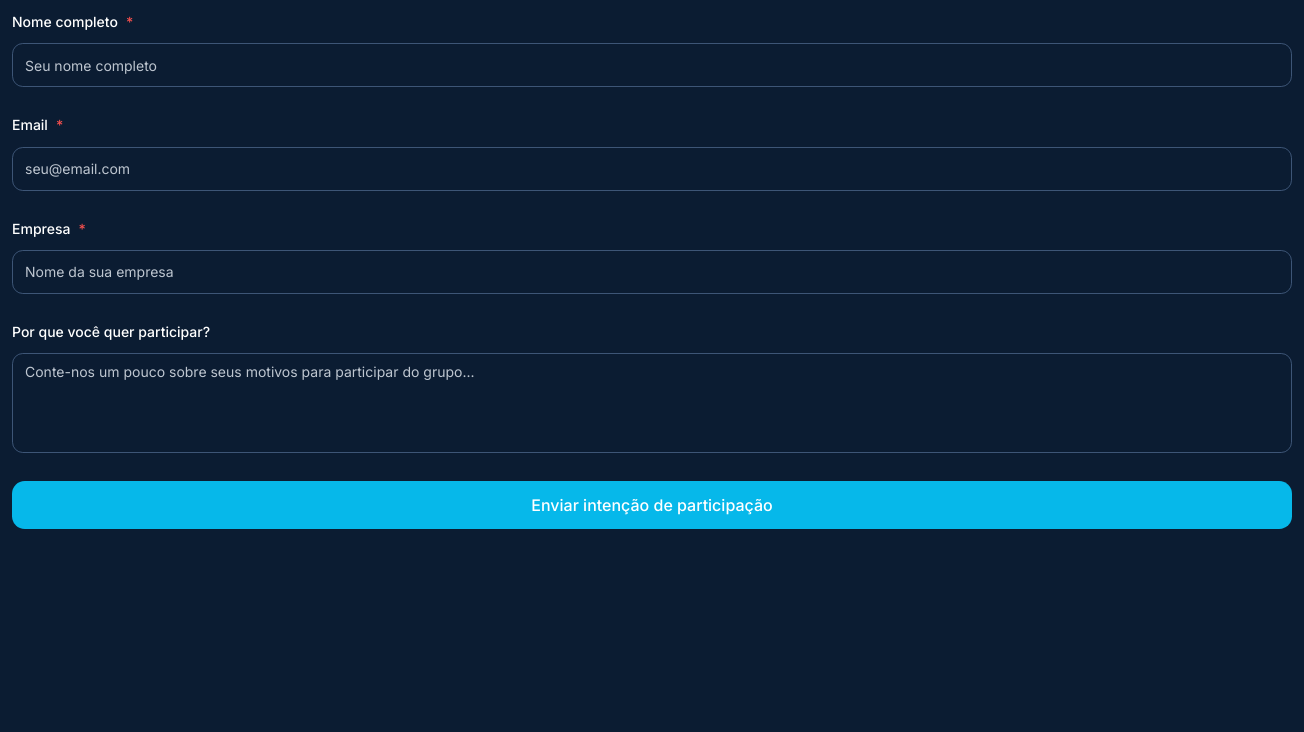
Scenario: Integration: Submeter intenção via UI › deve submeter intenção com sucesso através do formulário
The image size is (1304, 732).
Type "João Silva" into the field labelled "Nome completo *" at x=652, y=65, box [12,43,1292,87]
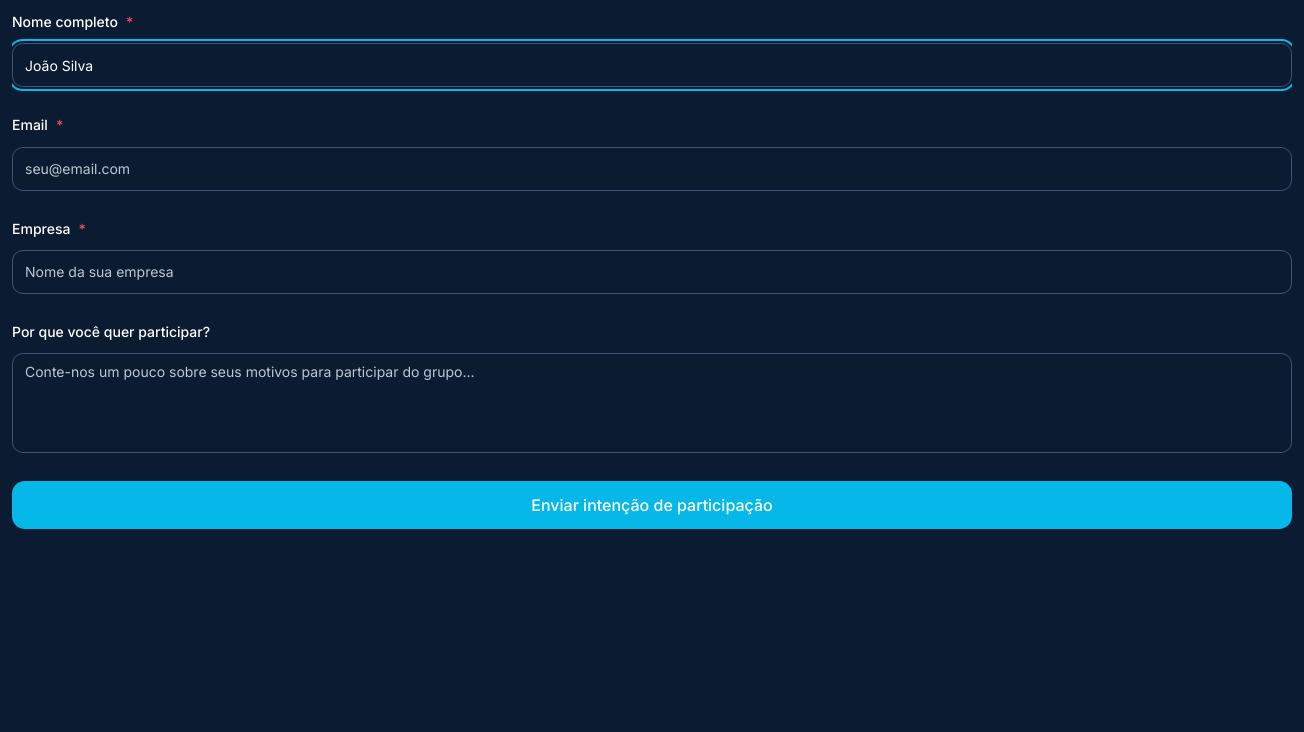
Type "joao@example.com" into the field labelled "Email *" at x=652, y=168, box [12,146,1292,190]
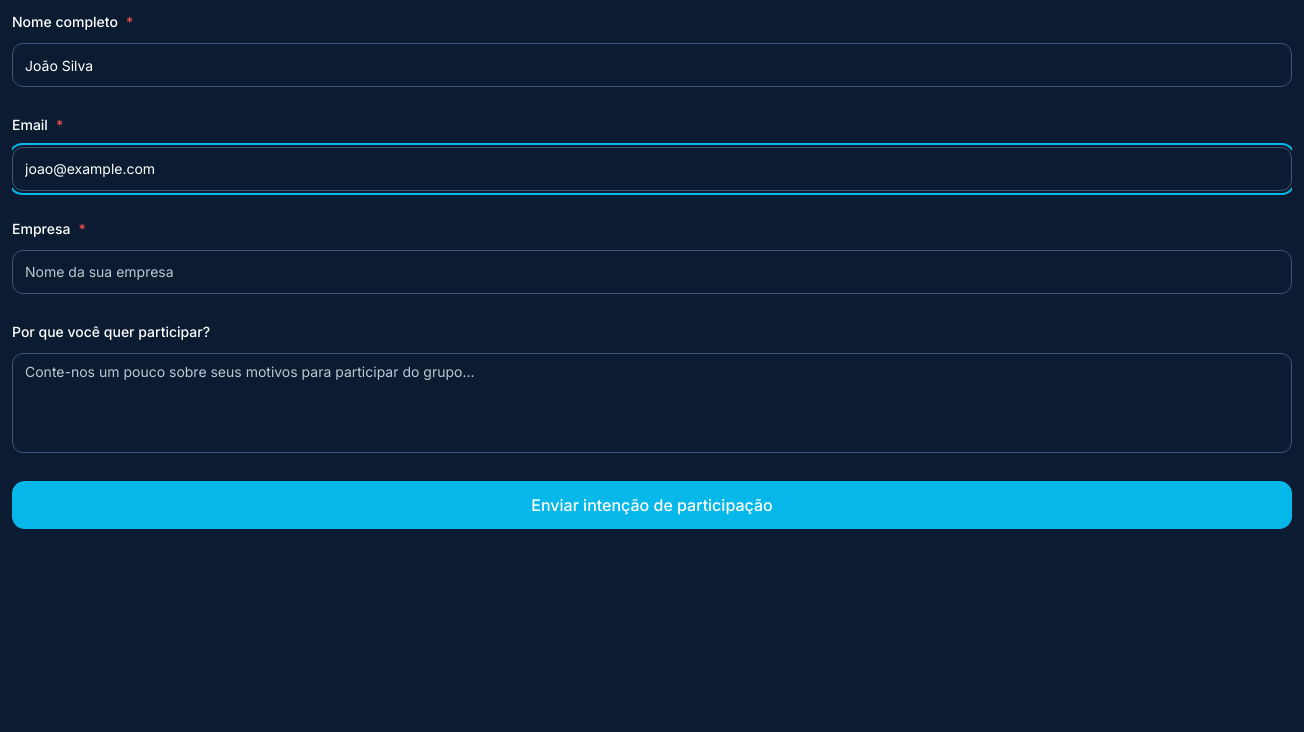
Type "TechCorp" into the field labelled "Empresa *" at x=652, y=272, box [12,250,1292,294]
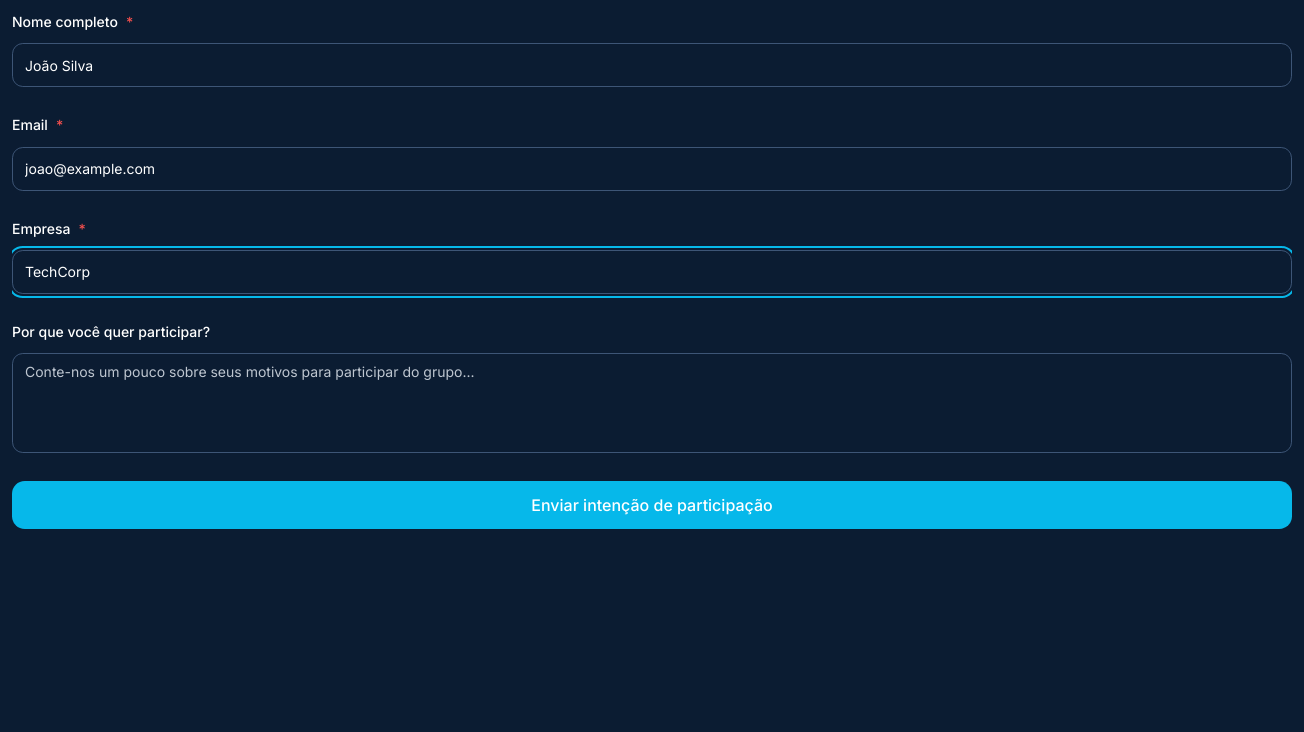
Submeter formulário
Click the button "Enviar intenção de participação" at x=652, y=505, box [12,481,1292,529]
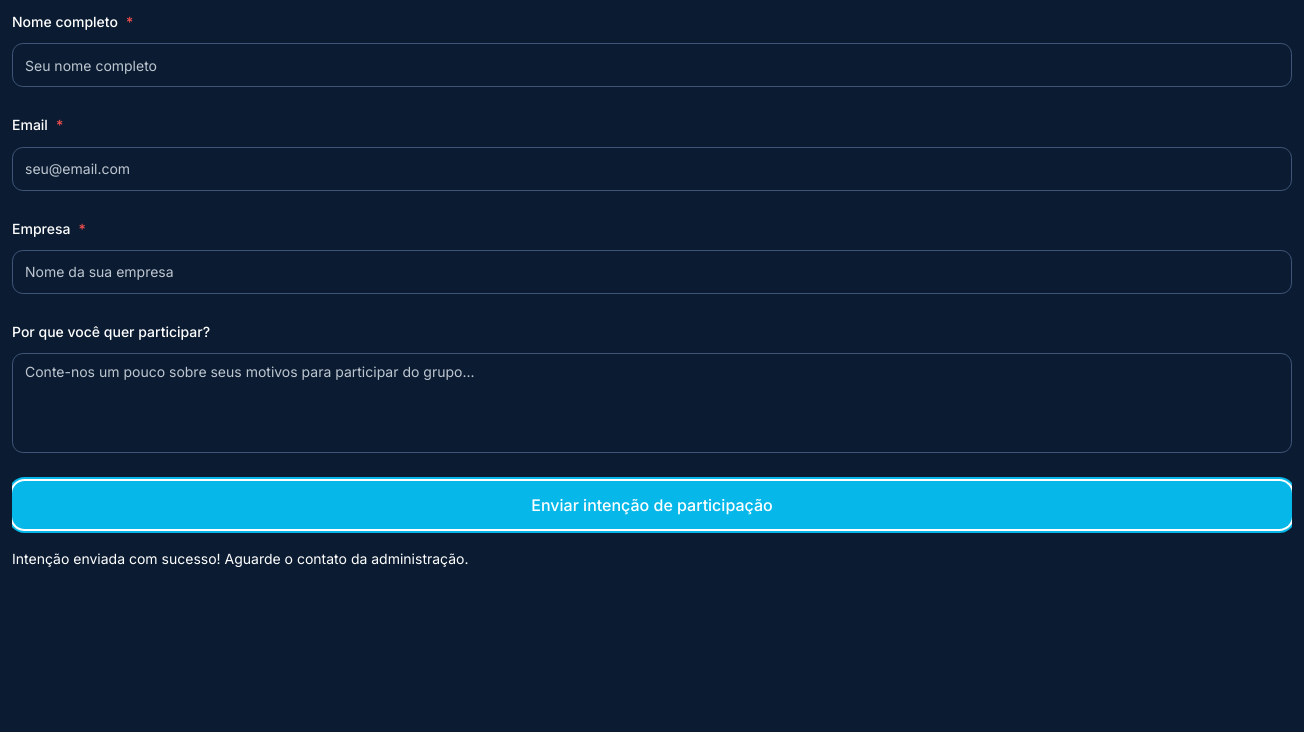
Check: the text "Intenção enviada com sucesso! Aguarde o contato da administração." is shown, box [12,550,468,567]
Check: the field labelled "Nome completo *" is empty, box [12,43,1292,87]
Check: the field labelled "Email *" is empty, box [12,146,1292,190]
